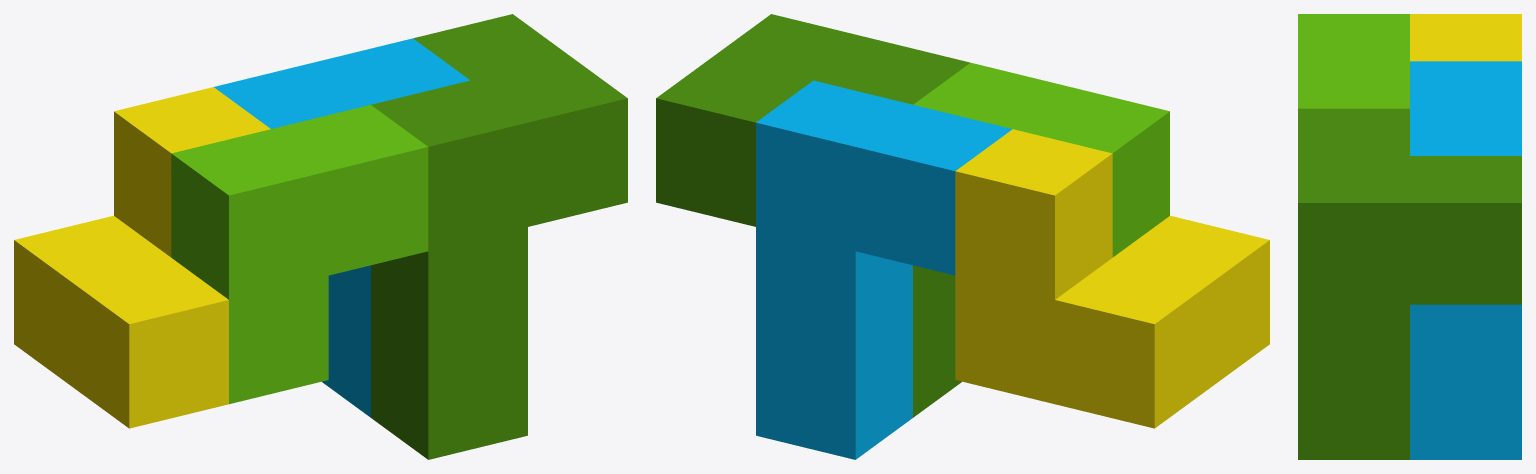
The picture shows the model from 3 angles, left to right: view 1: azimuth 30°, elevation 25°; view 2: azimuth 150°, elevation 25°; view 3: azimuth 270°, elevation 25°; orthographic projection. The views are drawn at different scales.
Visible parts, largest first — view 1: mergedBlocks(Clone); view 2: mergedBlocks(Clone); view 3: mergedBlocks(Clone).
Boxes of the visible parts, x1,y1,x2,y2 form: mergedBlocks(Clone): (14, 14, 627, 459); mergedBlocks(Clone): (656, 14, 1269, 459); mergedBlocks(Clone): (1298, 14, 1521, 459).
Bounding box in the file's own units: 5 × 3 × 2.
Materials: 4 (4 with a texture image).
